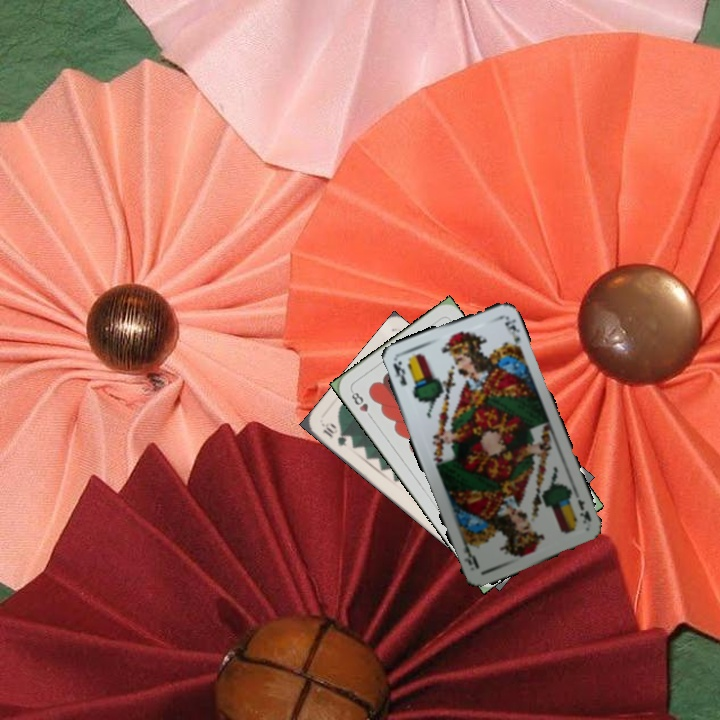EK: (573, 495, 594, 526), (389, 357, 409, 388)
G10: (318, 418, 350, 449)
H8: (347, 386, 375, 422)
